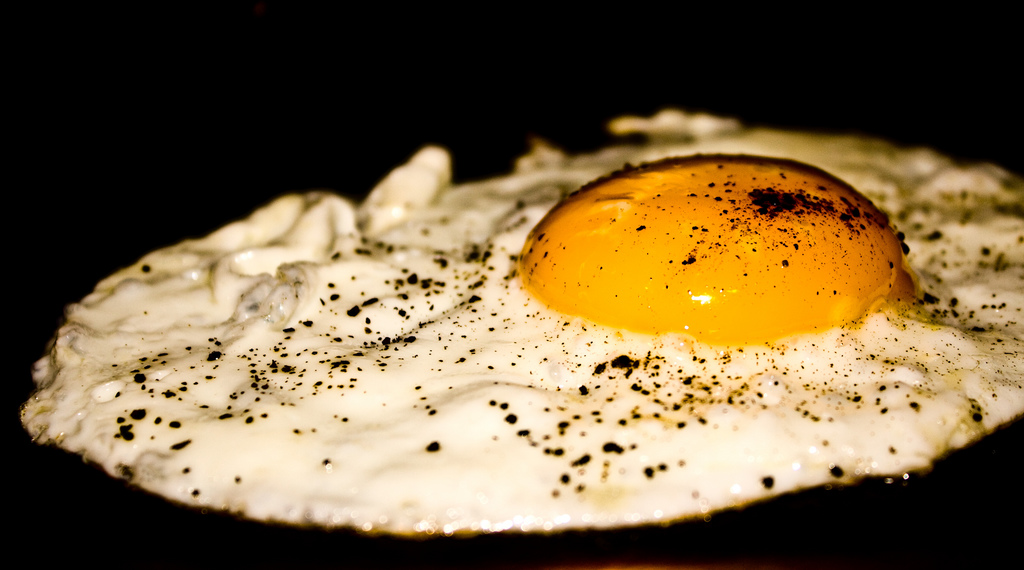fried egg: (68, 172, 988, 490)
